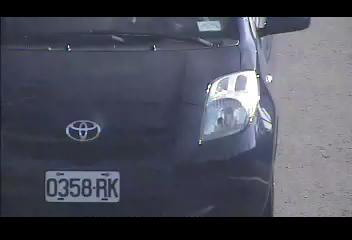plate: (44, 168, 121, 203)
